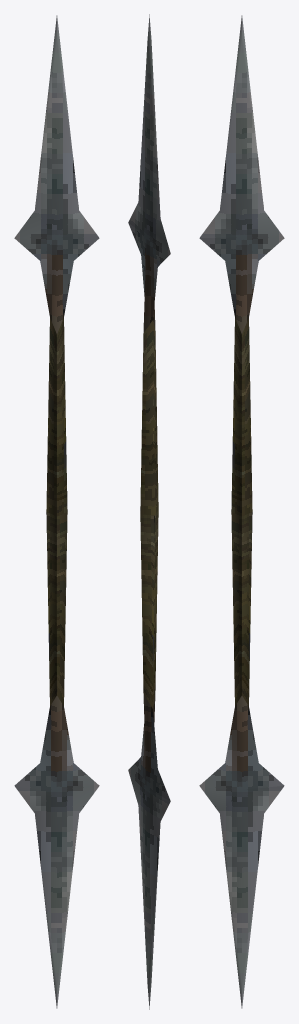
The model's file is wp_mle_lance_kashyyk_bladestick_l2.fbx.
The picture shows the model from 3 angles, left to right: view 1: azimuth 90°, elevation 25°; view 2: azimuth 210°, elevation 25°; view 3: azimuth 270°, elevation 25°; orthographic projection.
Parts seen in each view (by area): view 1: mesh_node; view 2: mesh_node; view 3: mesh_node.
Part boxes in pixels (x1,y1,x2,y2): mesh_node: (14,15,99,1008); mesh_node: (128,14,170,1009); mesh_node: (199,15,284,1008).
Size of the model in its own units: 0.0496 by 2.59 by 0.2008.
1 material, 1 textured.
